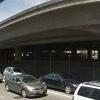Car: (3, 67, 49, 100)
